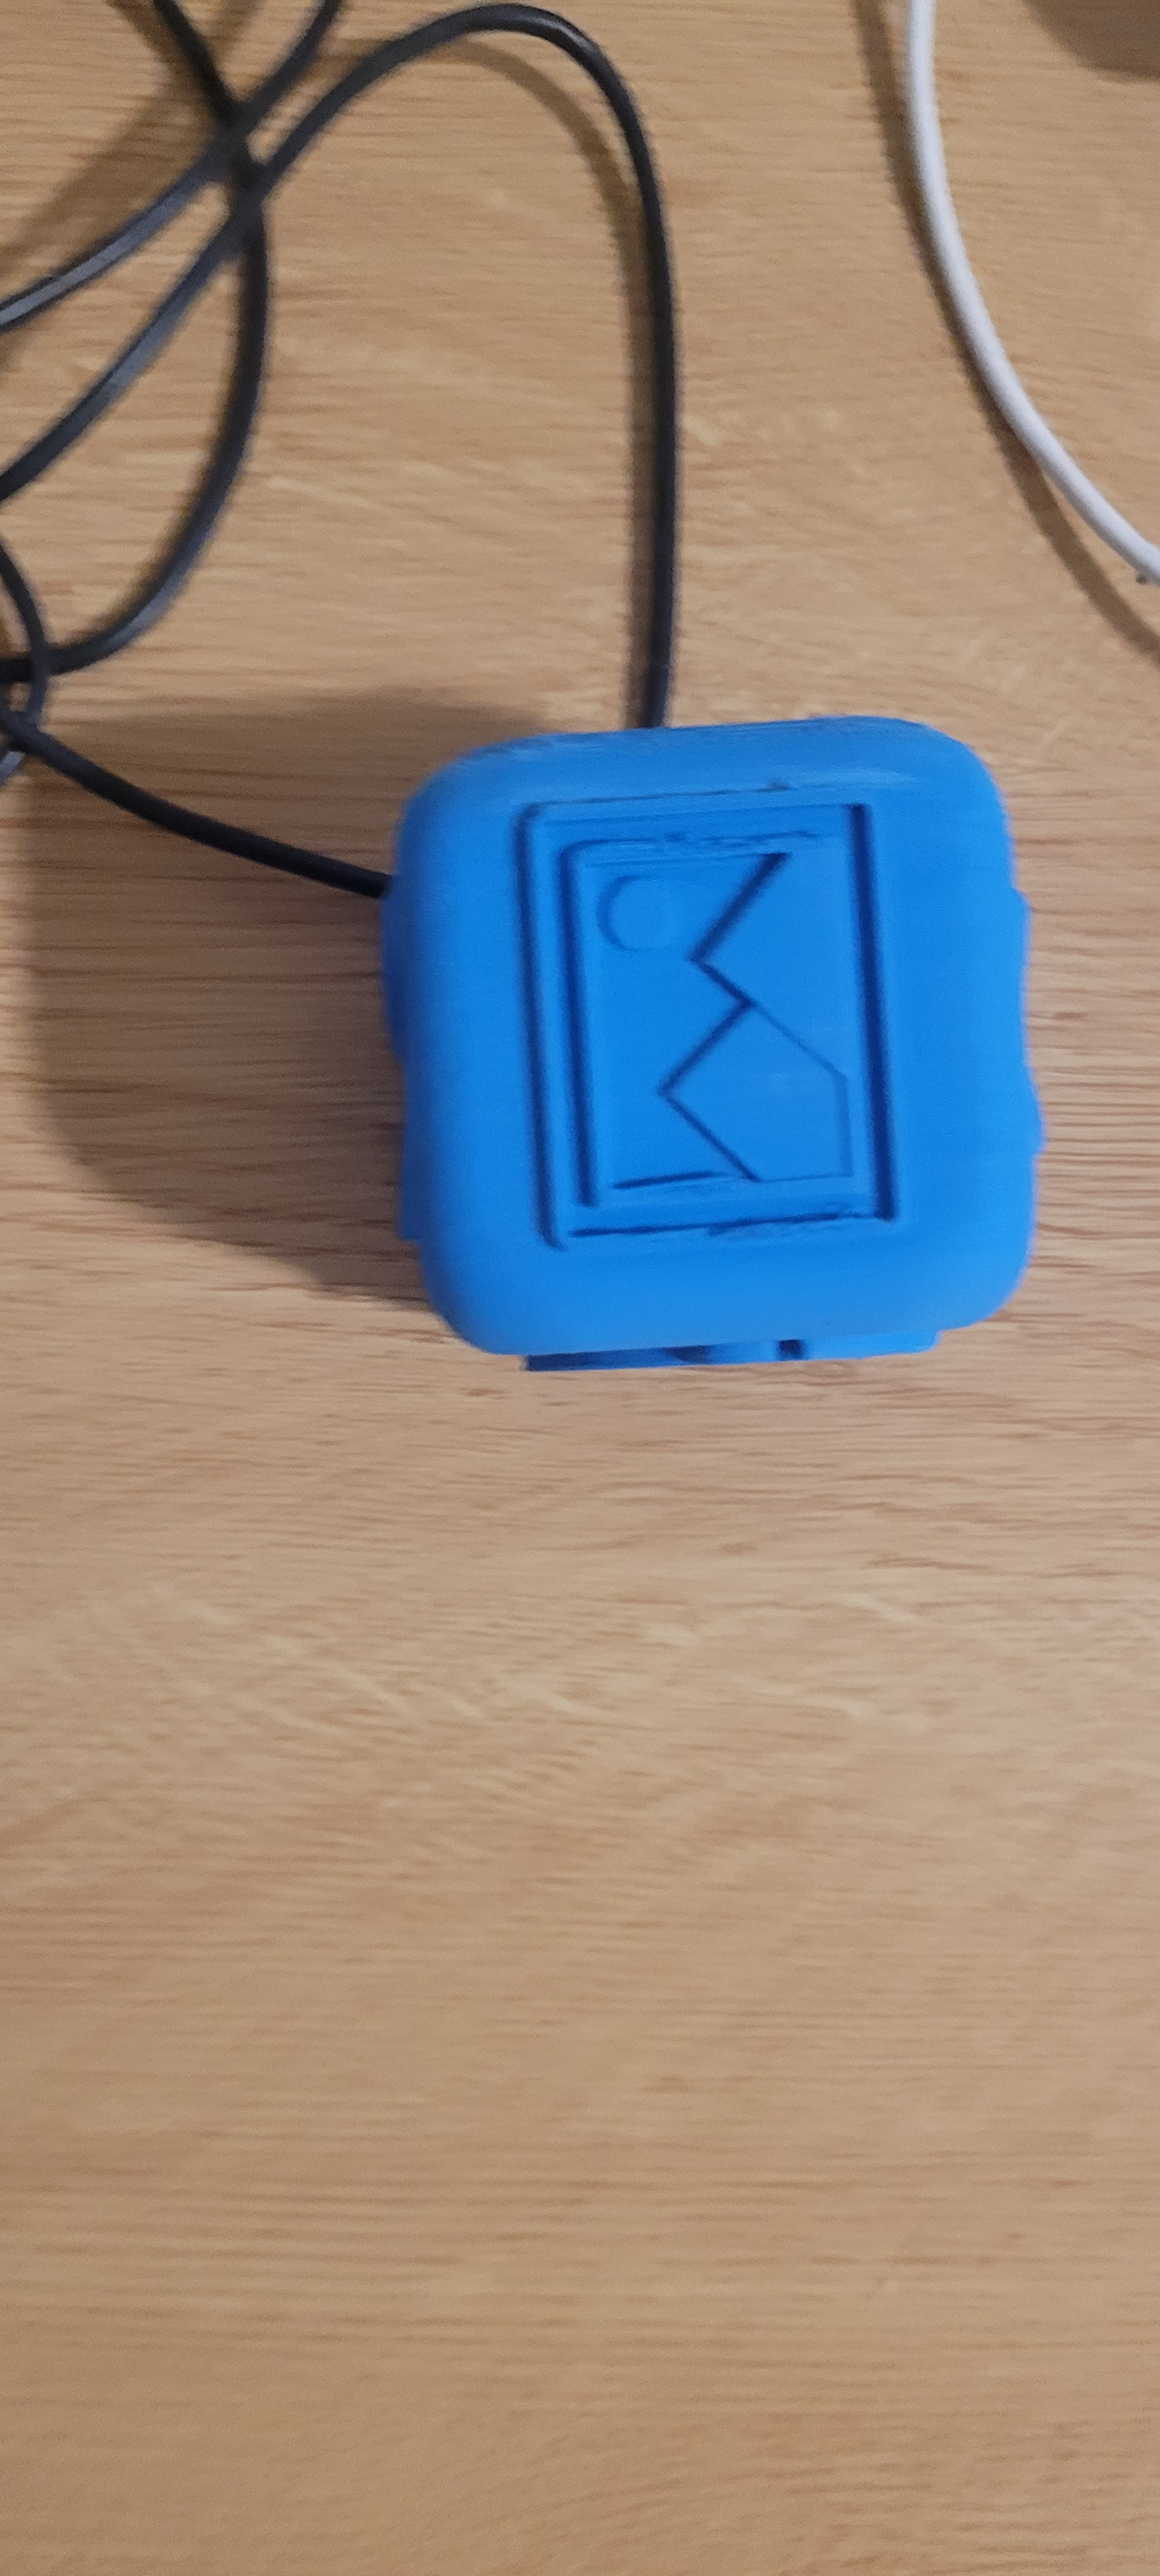Story: (480, 759, 937, 1301)
